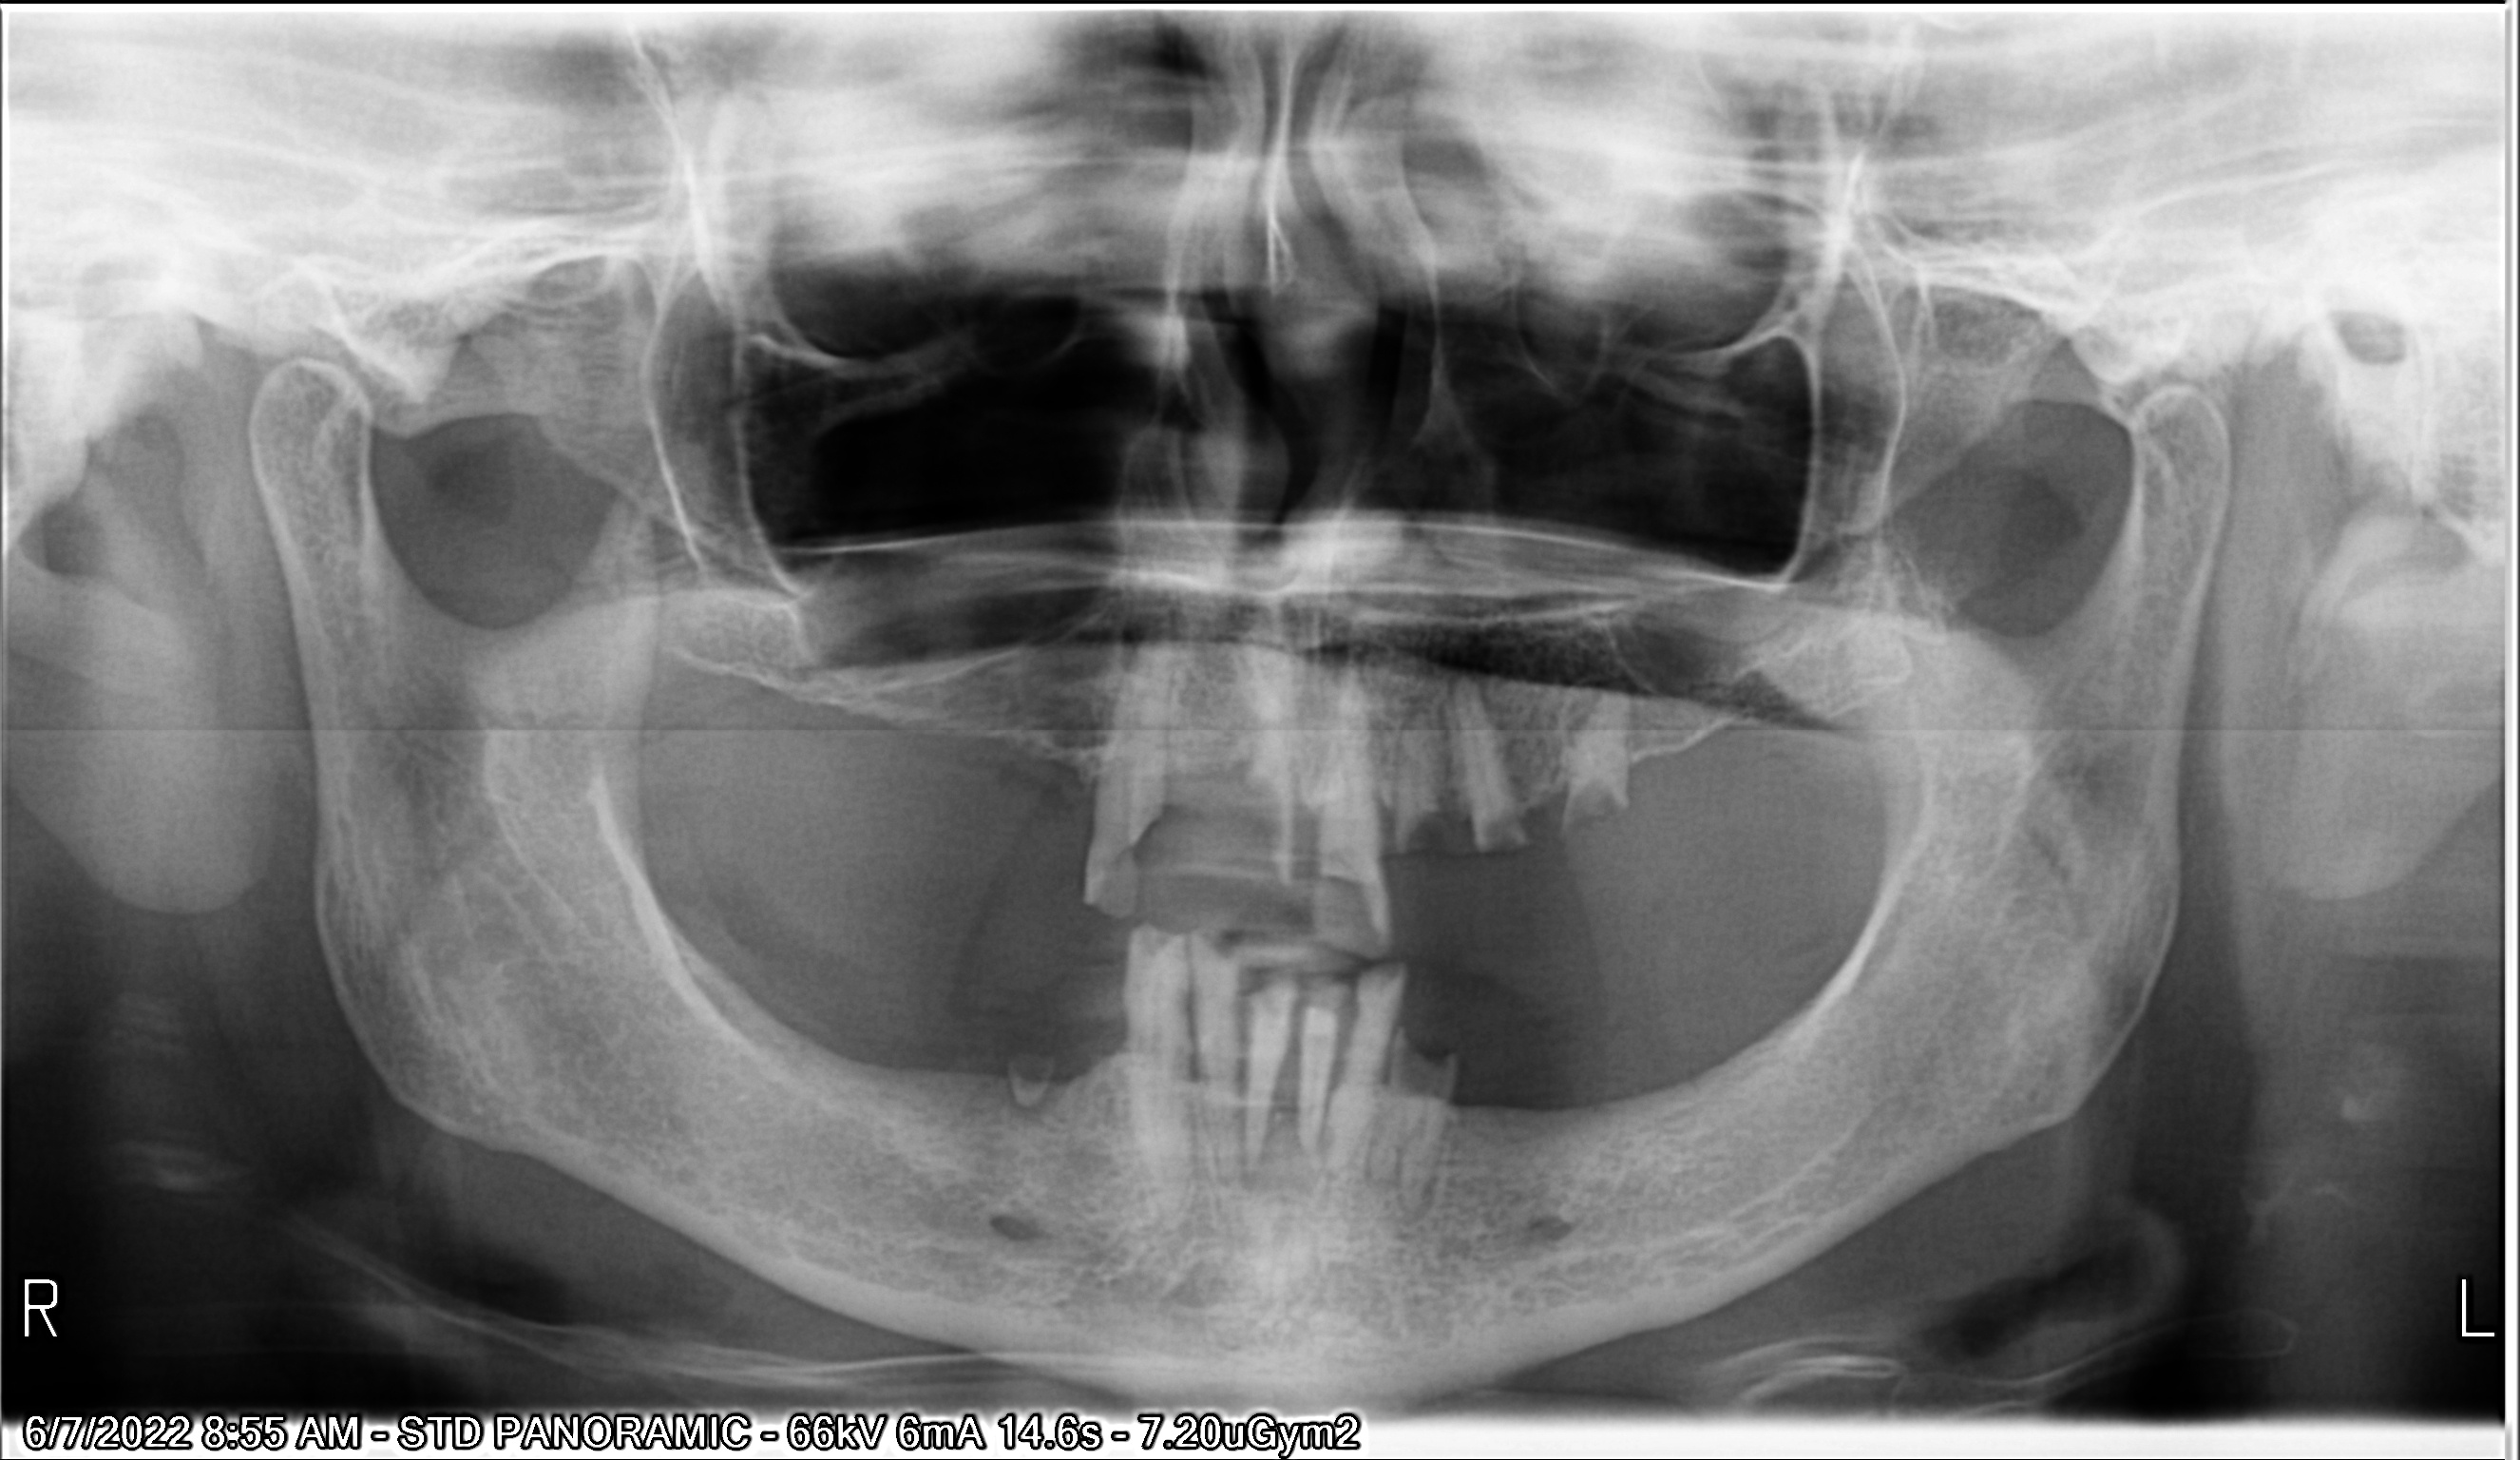API: (1386, 1177, 1448, 1239), (1346, 1163, 1405, 1215)
CAR: (1098, 806, 1181, 918), (1386, 1027, 1459, 1109), (1355, 968, 1395, 998)
ROT: (1537, 657, 1662, 838), (1216, 683, 1320, 883), (1360, 683, 1461, 853), (1447, 650, 1525, 859), (1233, 987, 1301, 1182), (1283, 982, 1344, 1163), (986, 1050, 1082, 1128)
